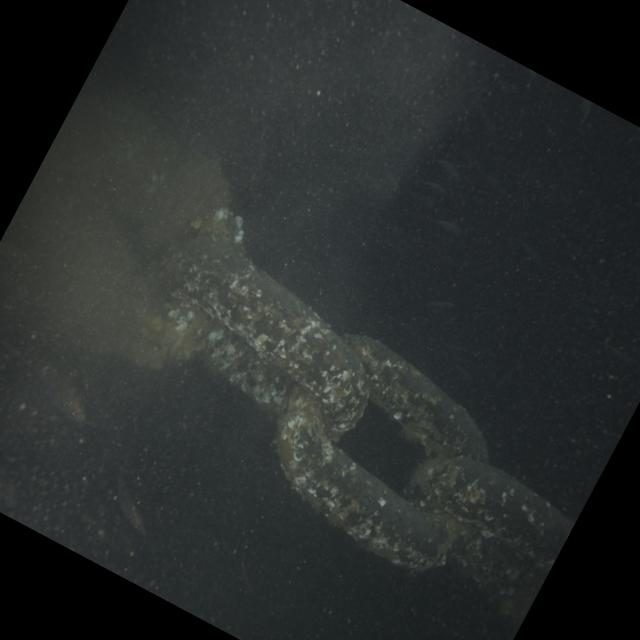ChainLink: (163, 237, 368, 439), (276, 390, 453, 569), (406, 457, 573, 617), (344, 336, 487, 462)
